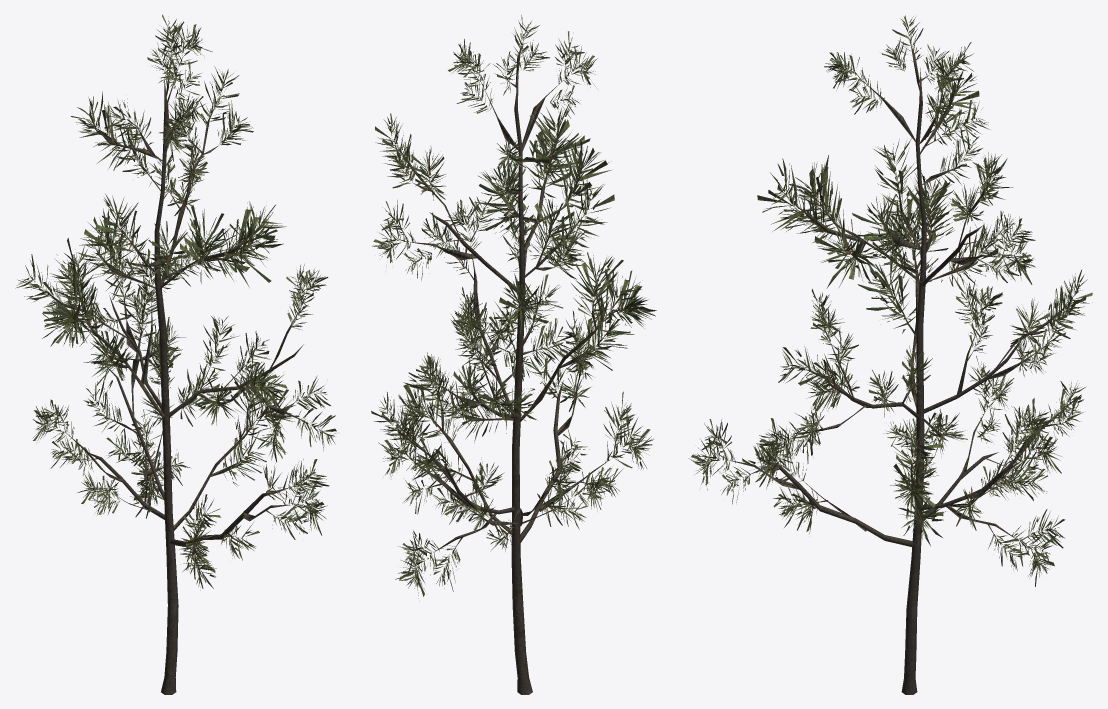
The model's file is tree_pine_young.glb.
3 views of the same model, side by side, from view 1: azimuth 30°, elevation 25°; view 2: azimuth 150°, elevation 25°; view 3: azimuth 270°, elevation 25° (orthographic).
Visible parts, largest first — view 1: tree_pine_young; view 2: tree_pine_young; view 3: tree_pine_young.
Part boxes in pixels (x1,y1,x2,y2): tree_pine_young: (15,14,336,694); tree_pine_young: (371,15,656,694); tree_pine_young: (688,15,1092,694).
Size of what is drawn, in the model's own units: 2.74 by 7 by 3.8.
2 materials, 2 textured.
